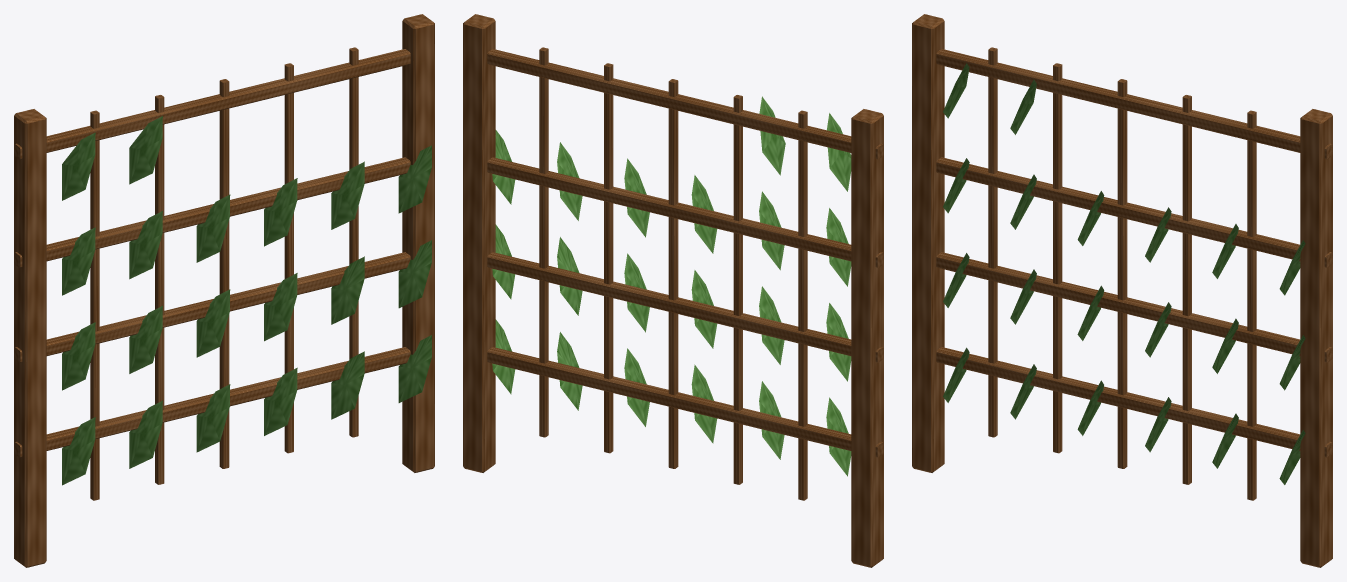
The model's file is garden_trellis.glb.
The picture shows the model from 3 angles, left to right: view 1: azimuth 30°, elevation 25°; view 2: azimuth 150°, elevation 25°; view 3: azimuth 330°, elevation 25°; orthographic projection.
Visible parts, largest first — view 1: garden_trellis.002; view 2: garden_trellis.002; view 3: garden_trellis.002.
Part boxes in pixels (x1,y1,x2,y2): garden_trellis.002: (14, 14, 434, 567); garden_trellis.002: (463, 14, 883, 567); garden_trellis.002: (912, 14, 1332, 567).
Size of the model in its own units: 3.2 by 3.3 by 0.3569.
1 material, 1 textured.
